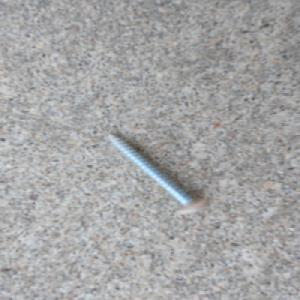Screw: (101, 130, 210, 217)
